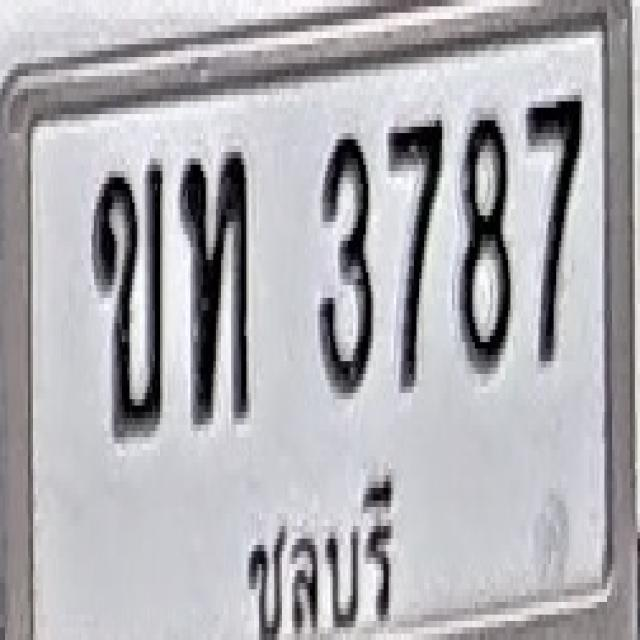-: (179, 142, 250, 422), (93, 155, 164, 434)
3: (317, 127, 373, 393)
7: (387, 111, 443, 390), (526, 89, 582, 361)
8: (457, 104, 511, 370)
CBI: (240, 458, 399, 640)
